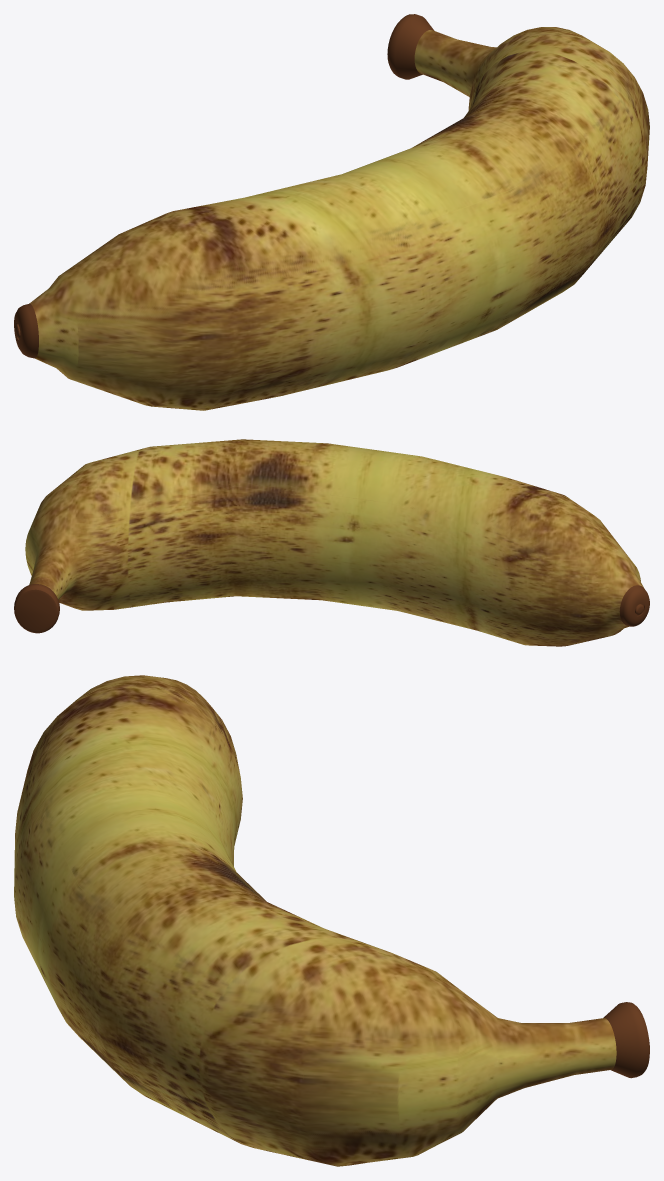
Rendered from Banana.fbx.
3 views of the same model, one above another, from view 1: azimuth 30°, elevation 25°; view 2: azimuth 150°, elevation 25°; view 3: azimuth 270°, elevation 25° (orthographic). The views are drawn at different scales.
Parts seen in each view (by area): view 1: Cylinder; view 2: Cylinder; view 3: Cylinder.
Boxes of the visible parts, bbox=[...] form: Cylinder: bbox=[14, 14, 649, 410]; Cylinder: bbox=[14, 439, 649, 646]; Cylinder: bbox=[14, 675, 649, 1166].
Bounding box in the file's own units: 38.97 × 10 × 26.93.
